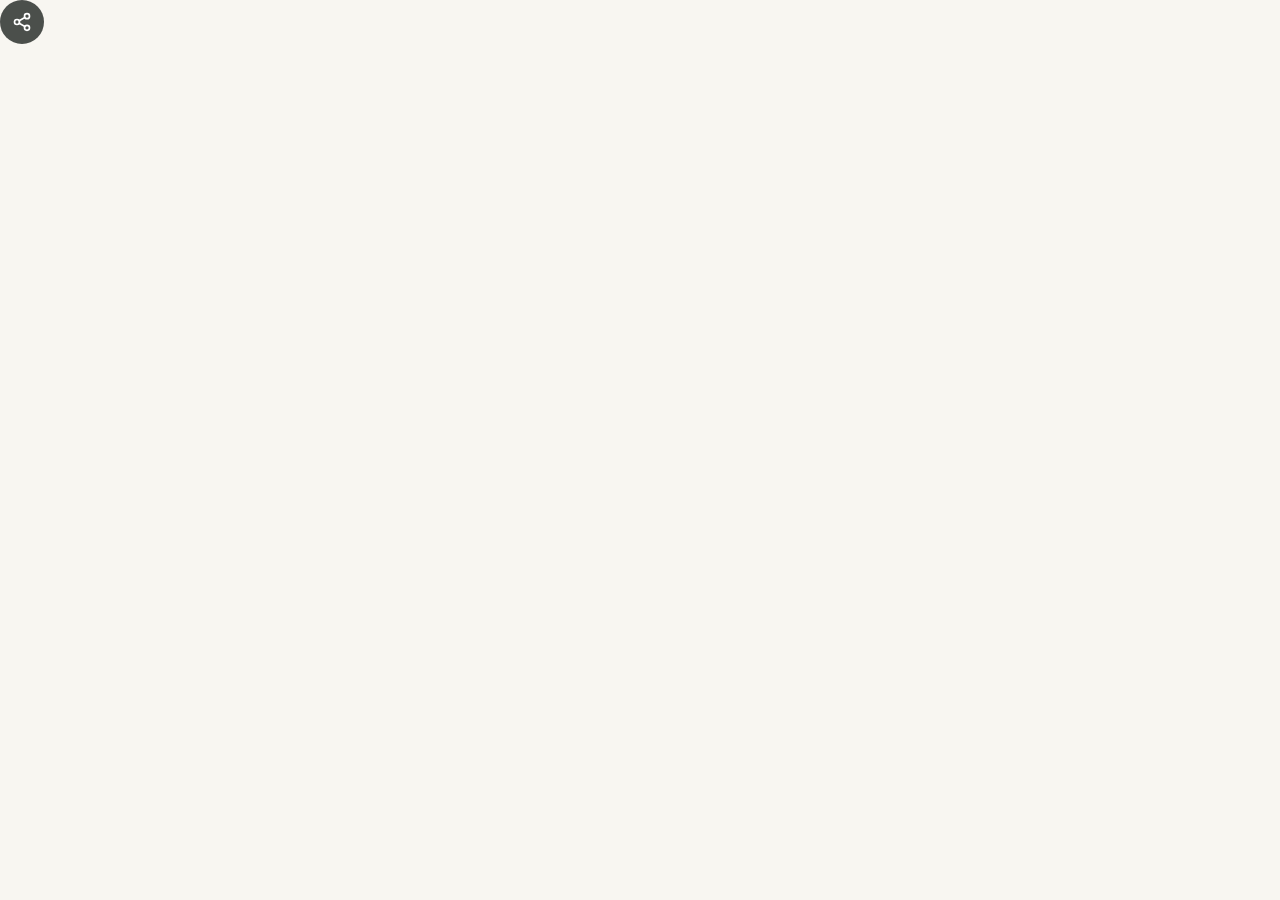
Scenario: cover itinerary action › does not silently share a link while the full PDF is still preparing
Click the button named "Share itinerary": [22, 22] box [0,0,44,44]
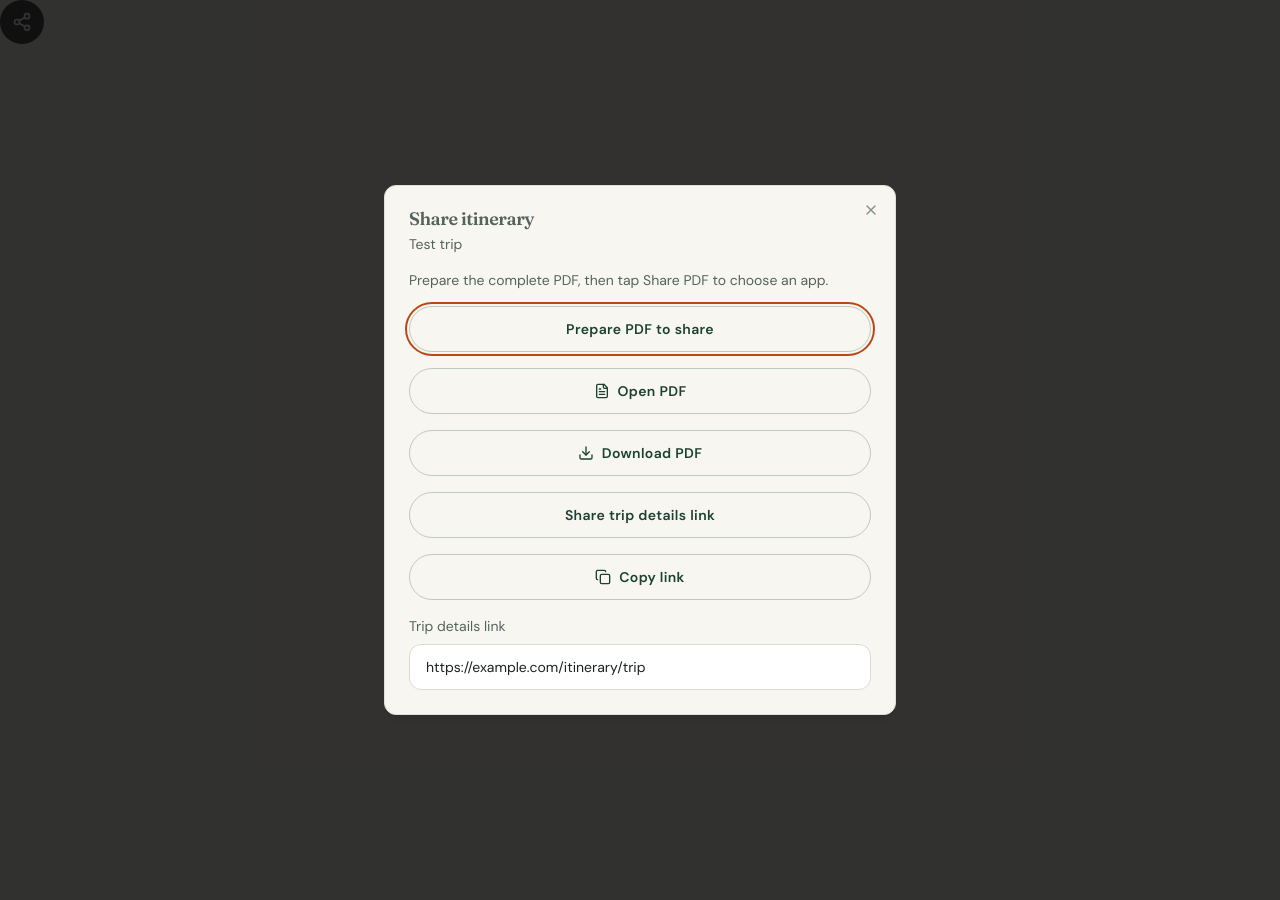
Now the dialog is shown, box [384,185,896,715]
Now the button "Prepare PDF to share" is shown, box [409,306,871,352]
